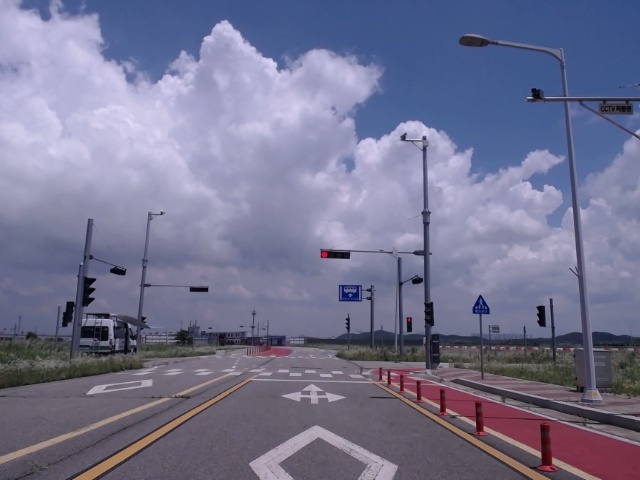red_4: (321, 250, 350, 260)
